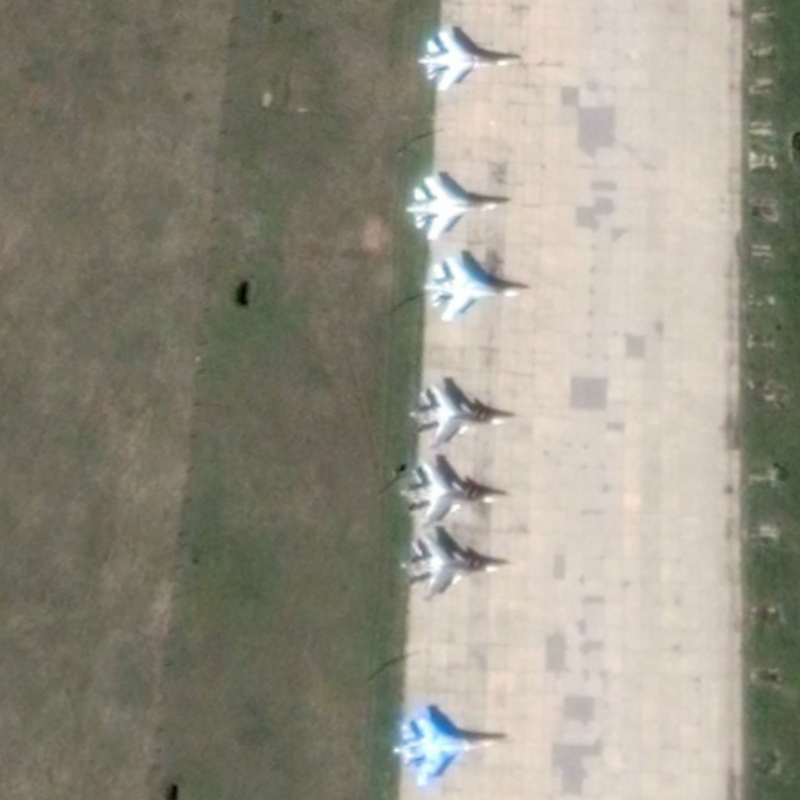A1: (390, 714, 495, 787), (422, 254, 521, 323), (403, 174, 499, 243), (416, 29, 512, 94)
A19: (398, 530, 502, 604), (398, 455, 499, 526), (407, 381, 509, 451)
